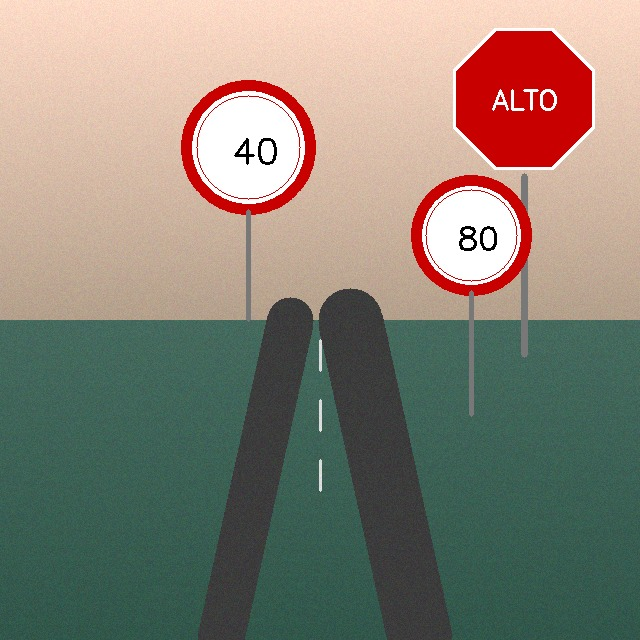alto: (447, 22, 601, 176)
velocidad: (184, 83, 312, 211), (414, 178, 528, 292)
